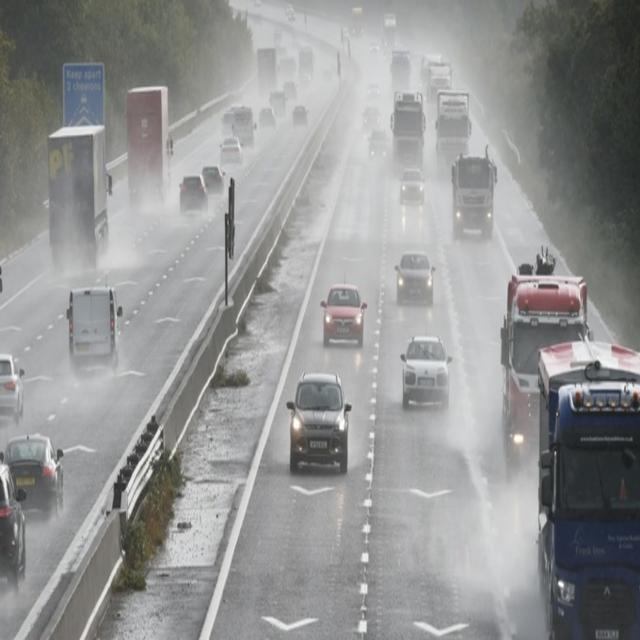bus: (539, 352, 637, 632), (503, 258, 582, 476), (48, 120, 108, 262), (126, 90, 170, 202), (454, 157, 496, 237), (436, 90, 472, 174), (392, 92, 424, 169), (427, 63, 439, 139), (392, 51, 416, 88), (382, 15, 398, 58), (350, 7, 364, 39)
car: (288, 373, 350, 473), (5, 432, 61, 510), (66, 288, 122, 366), (399, 333, 449, 408), (321, 283, 365, 347), (394, 252, 434, 305), (1, 353, 27, 422), (176, 175, 206, 214), (398, 167, 426, 207), (229, 110, 256, 146), (366, 130, 390, 160), (200, 162, 223, 188), (360, 106, 382, 132), (220, 137, 242, 162), (291, 103, 311, 129)
